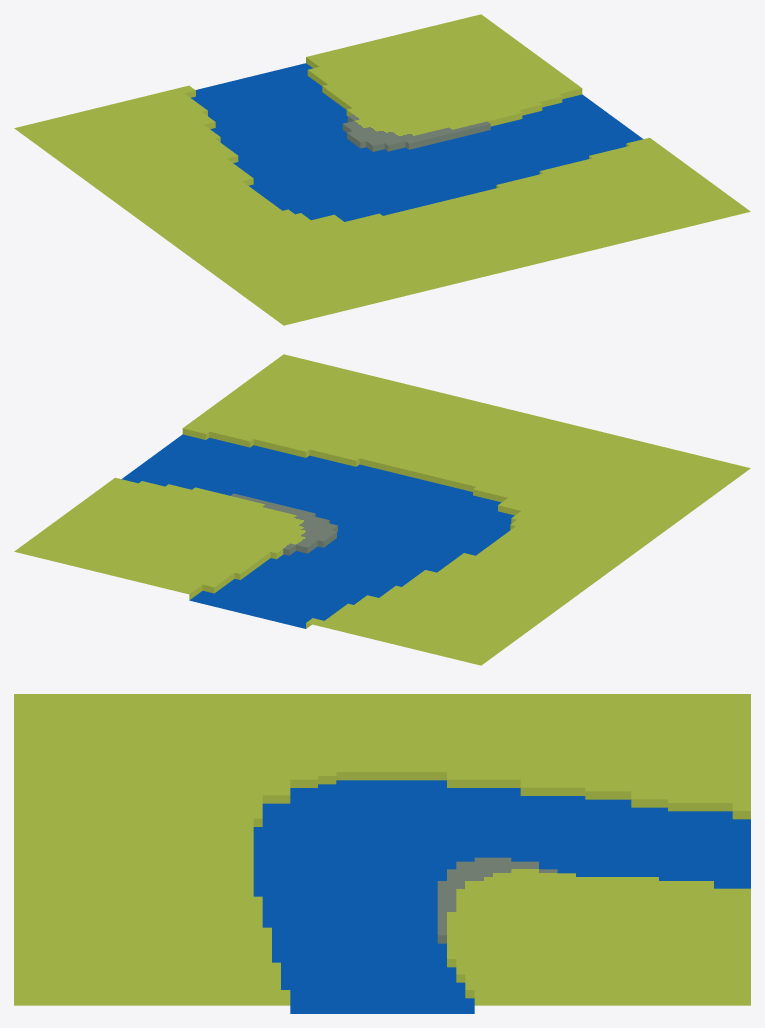
Rendered from MMMMR96(1).glb.
3 views of the same model, one above another, from view 1: azimuth 30°, elevation 25°; view 2: azimuth 150°, elevation 25°; view 3: azimuth 270°, elevation 25° (orthographic). The views are drawn at different scales.
Visible parts, largest first — view 1: model_0.042; view 2: model_0.042; view 3: model_0.042.
Part boxes in pixels (left/top/right/bottom): model_0.042: left=14, top=14, right=750, bottom=325; model_0.042: left=14, top=354, right=750, bottom=665; model_0.042: left=14, top=694, right=750, bottom=1013.
Bounding box in the file's own units: 80 × 1 × 80.
1 material, 1 textured.
